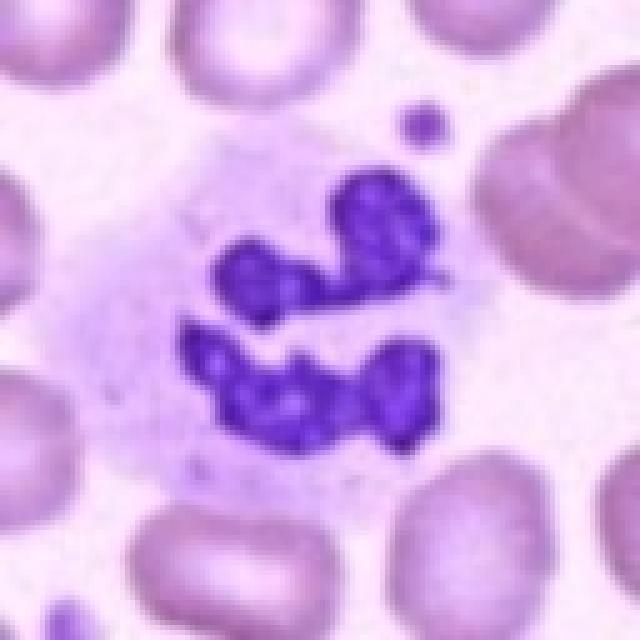neutro: (78, 109, 518, 548)
